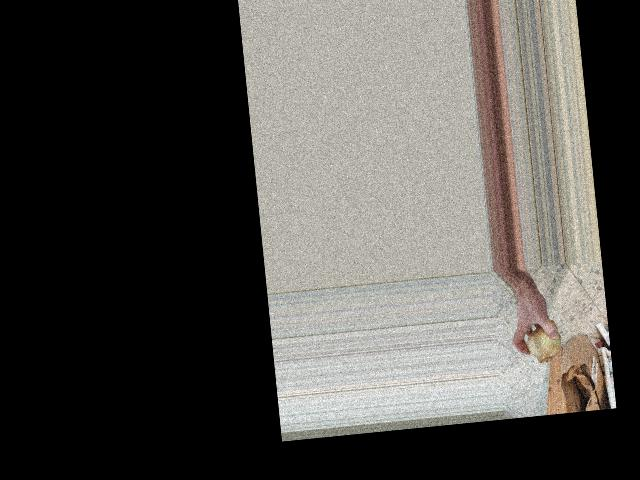onion: (520, 315, 566, 365)
